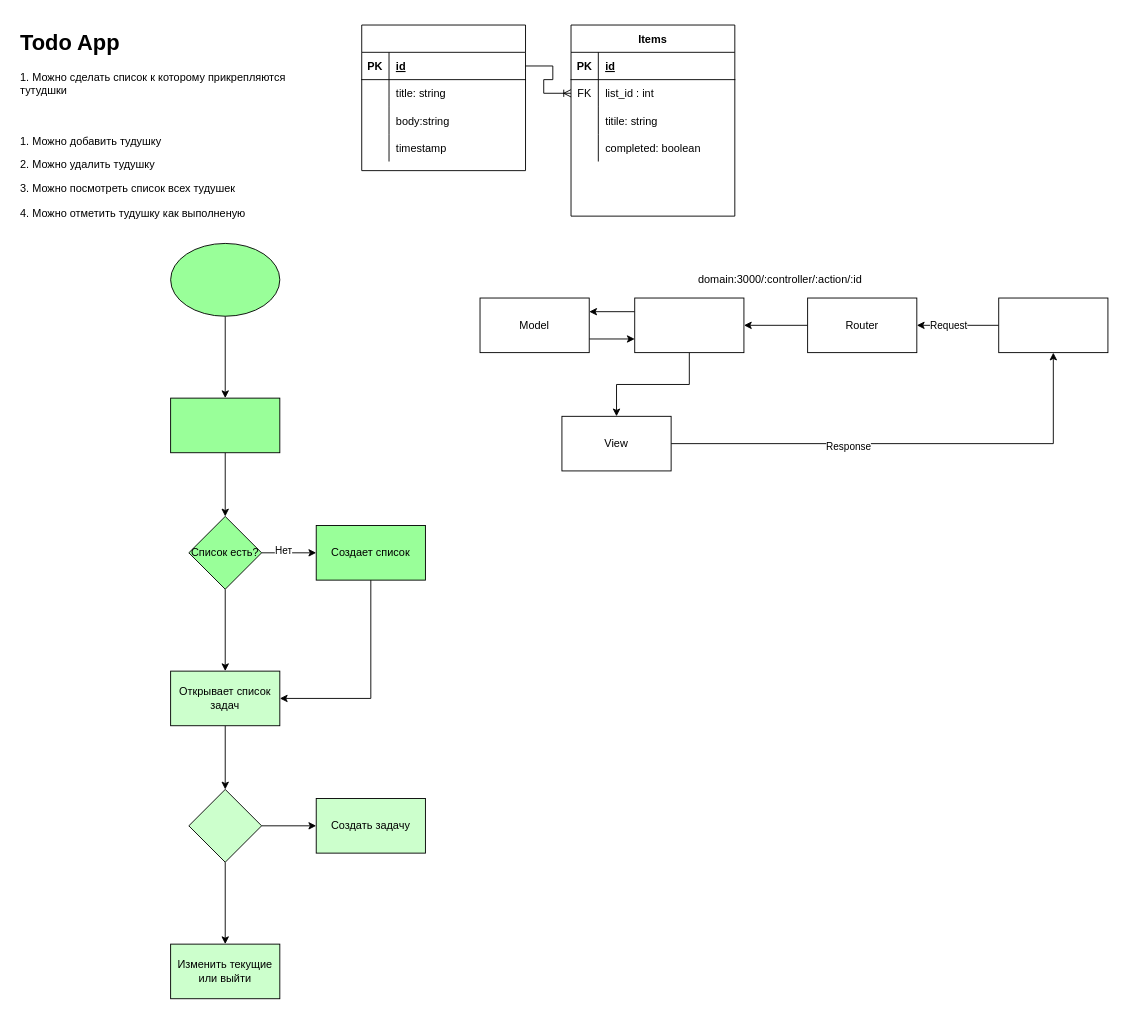
This 1124x1015 diagram has some shape labels left out. Each missing label, with the box of its shape:
Client: (998, 297, 1108, 353)
Controller: (634, 297, 744, 353)
Lists: (361, 24, 526, 171)
Выбирает список: (170, 397, 280, 453)
Добавить новую?: (188, 789, 262, 862)
